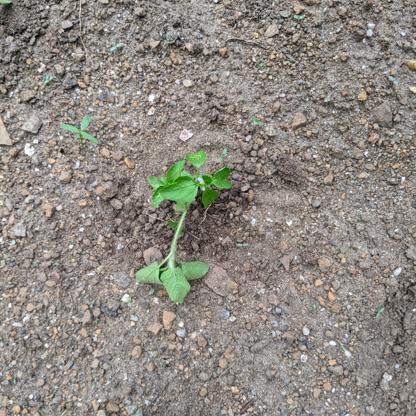weed: (134, 150, 239, 306)
